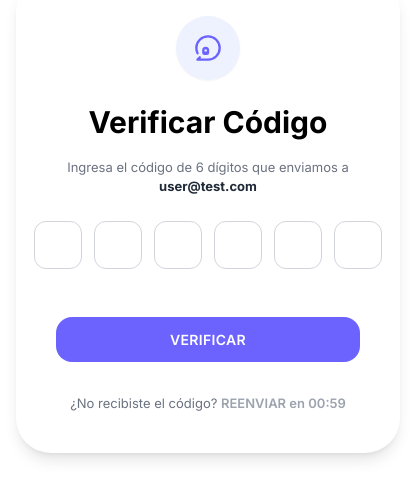
Test: VerifyCodeForm › muestra error con codigo incompleto
Click the button "VERIFICAR".
click(208, 339)  # box [56,316,360,362]
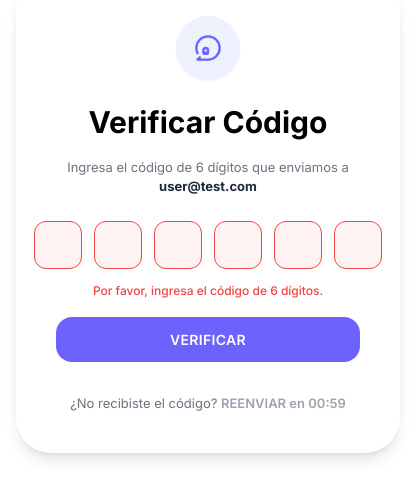
Result: the text "Por favor, ingresa el código de 6 dígitos." is shown at [93,282,323,298]
